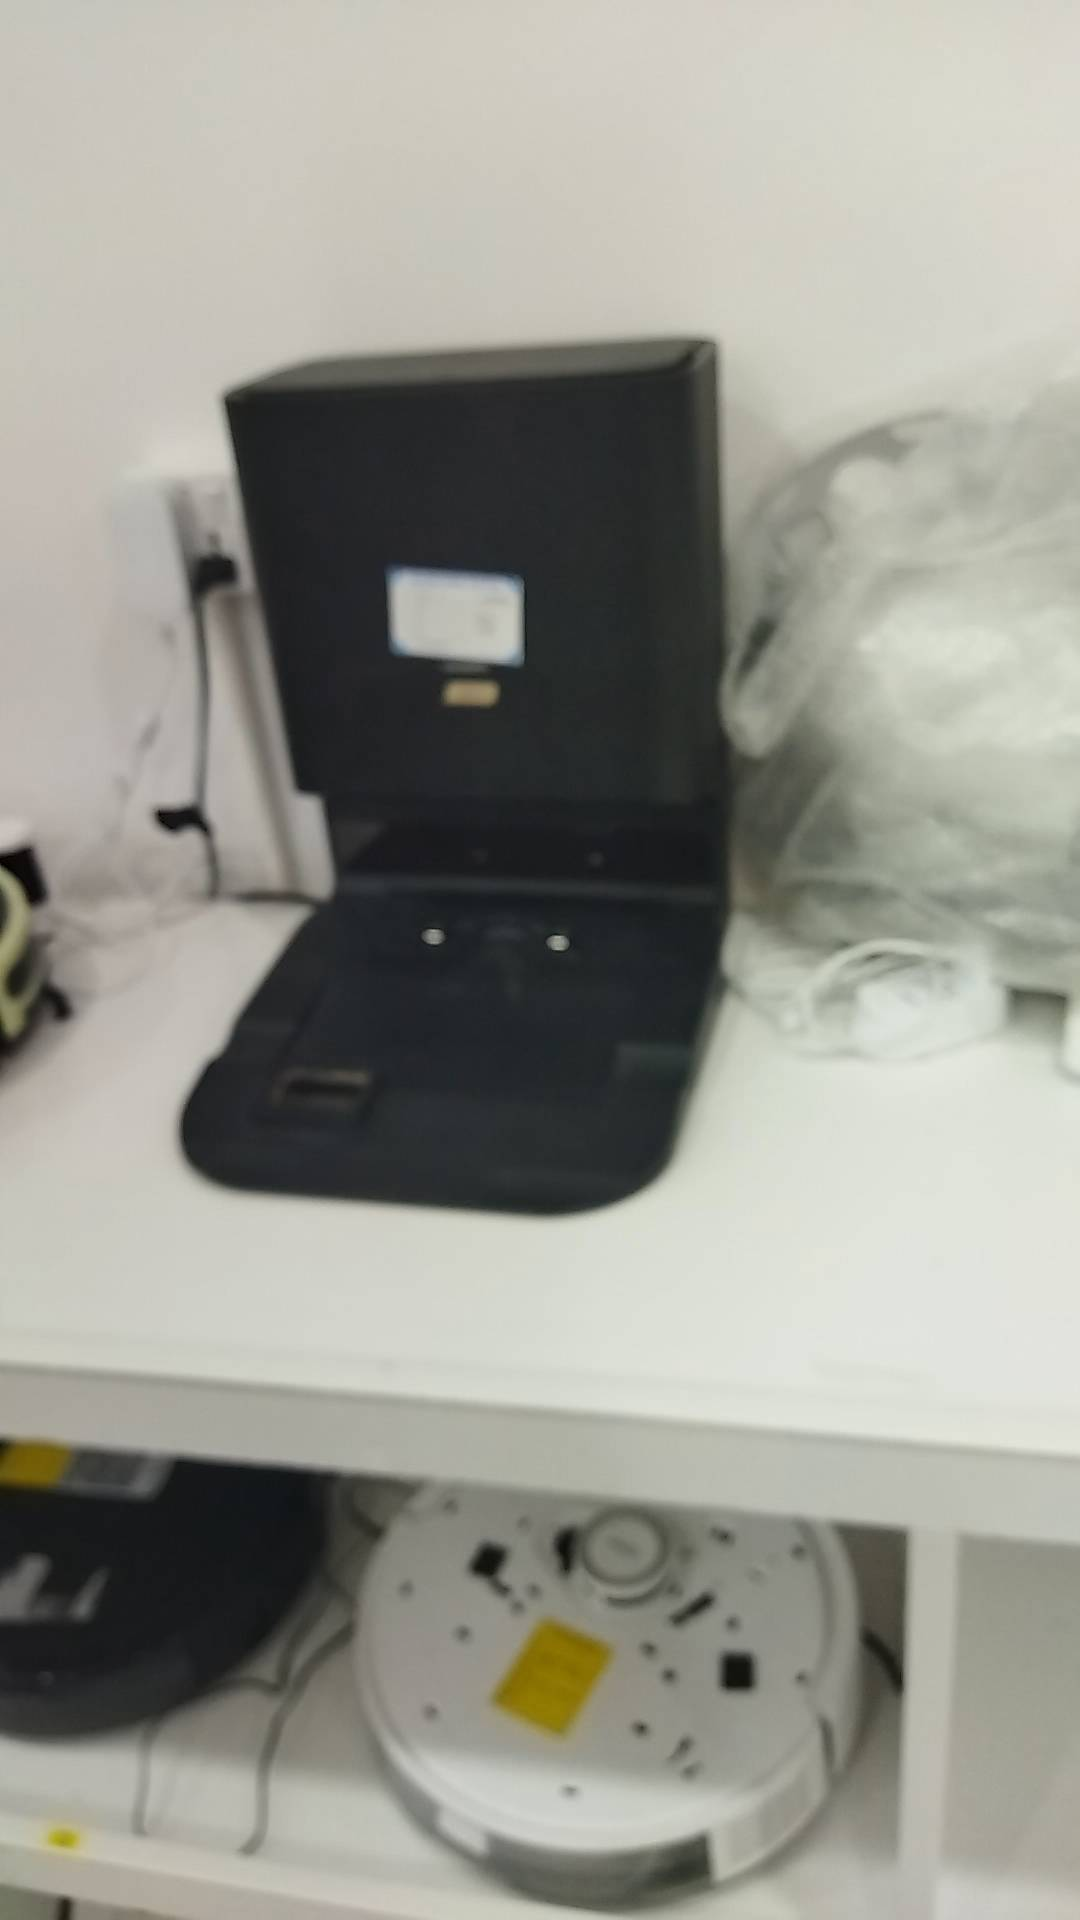dust collecting barrel: (178, 338, 728, 1218)
